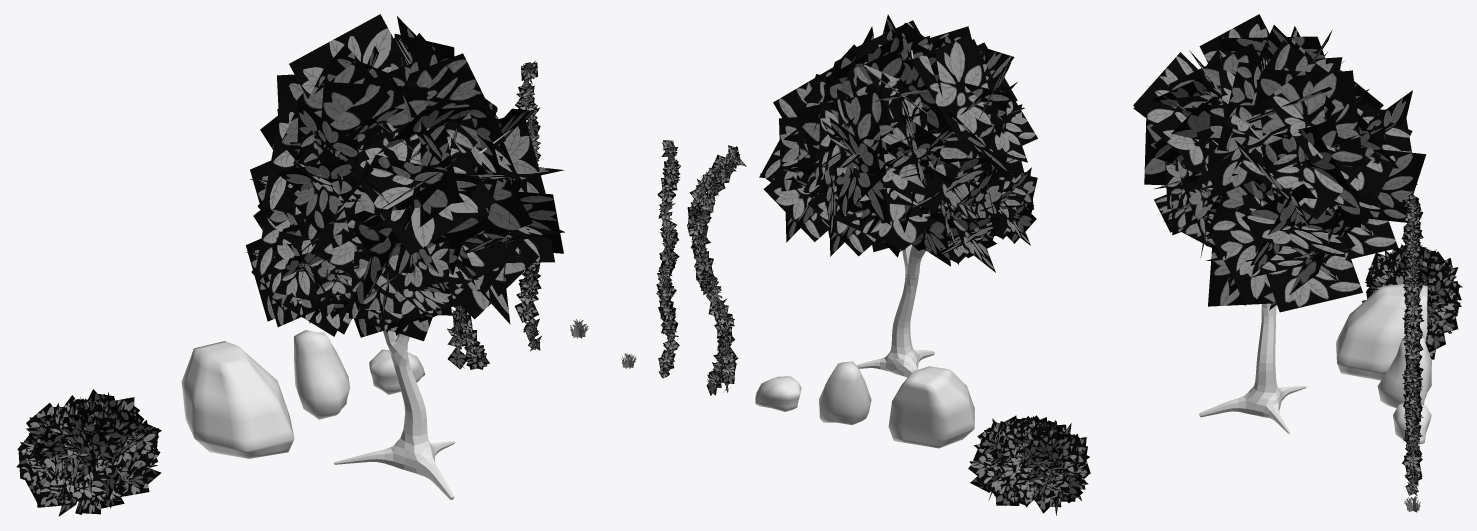
File: Forest.fbx
3 views of the same model, side by side, from view 1: azimuth 30°, elevation 25°; view 2: azimuth 150°, elevation 25°; view 3: azimuth 270°, elevation 25° (orthographic). The views are drawn at different scales.
Parts seen in each view (by area): view 1: Tree, Bush, rock_large, rock_medium, Vines2, Vines, rock_small; view 2: Tree, Bush, rock_large, Vines, Vines2, rock_medium, rock_small; view 3: Tree, rock_large, Bush, Vines2, rock_medium, Vines, rock_small.
Part boxes in pixels (<box>): Tree: <box>246,14,564,499</box>; Bush: <box>16,389,161,516</box>; rock_large: <box>181,341,294,458</box>; rock_medium: <box>294,330,350,419</box>; Vines2: <box>514,61,541,351</box>; Vines: <box>447,108,498,369</box>; rock_small: <box>369,349,425,394</box>; Tree: <box>759,14,1037,377</box>; Bush: <box>968,415,1090,515</box>; rock_large: <box>888,366,974,448</box>; Vines: <box>687,145,746,395</box>; Vines2: <box>656,140,680,378</box>; rock_medium: <box>819,361,871,424</box>; rock_small: <box>755,376,801,411</box>; Tree: <box>1133,14,1426,433</box>; rock_large: <box>1336,284,1427,380</box>; Bush: <box>1362,244,1462,359</box>; Vines2: <box>1402,238,1423,495</box>; rock_medium: <box>1377,336,1431,408</box>; Vines: <box>1401,193,1424,459</box>; rock_small: <box>1393,402,1431,444</box>.
Bounding box in the file's own units: 4.18 × 3.33 × 2.54.
